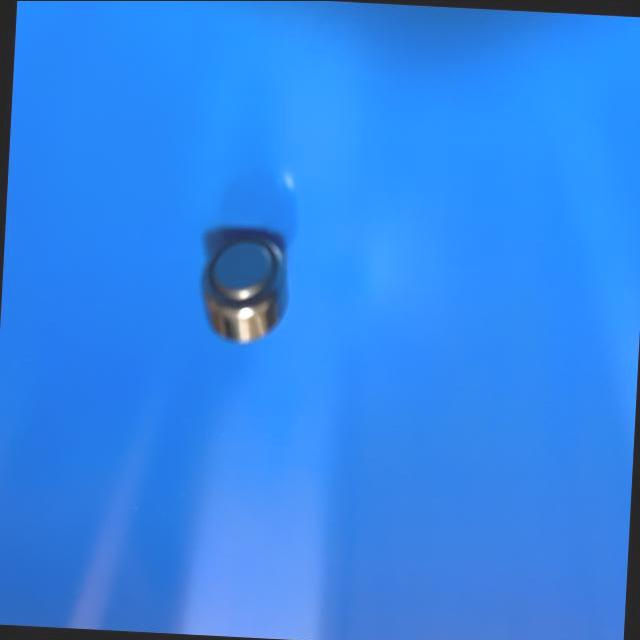COIN: (195, 228, 289, 346)
